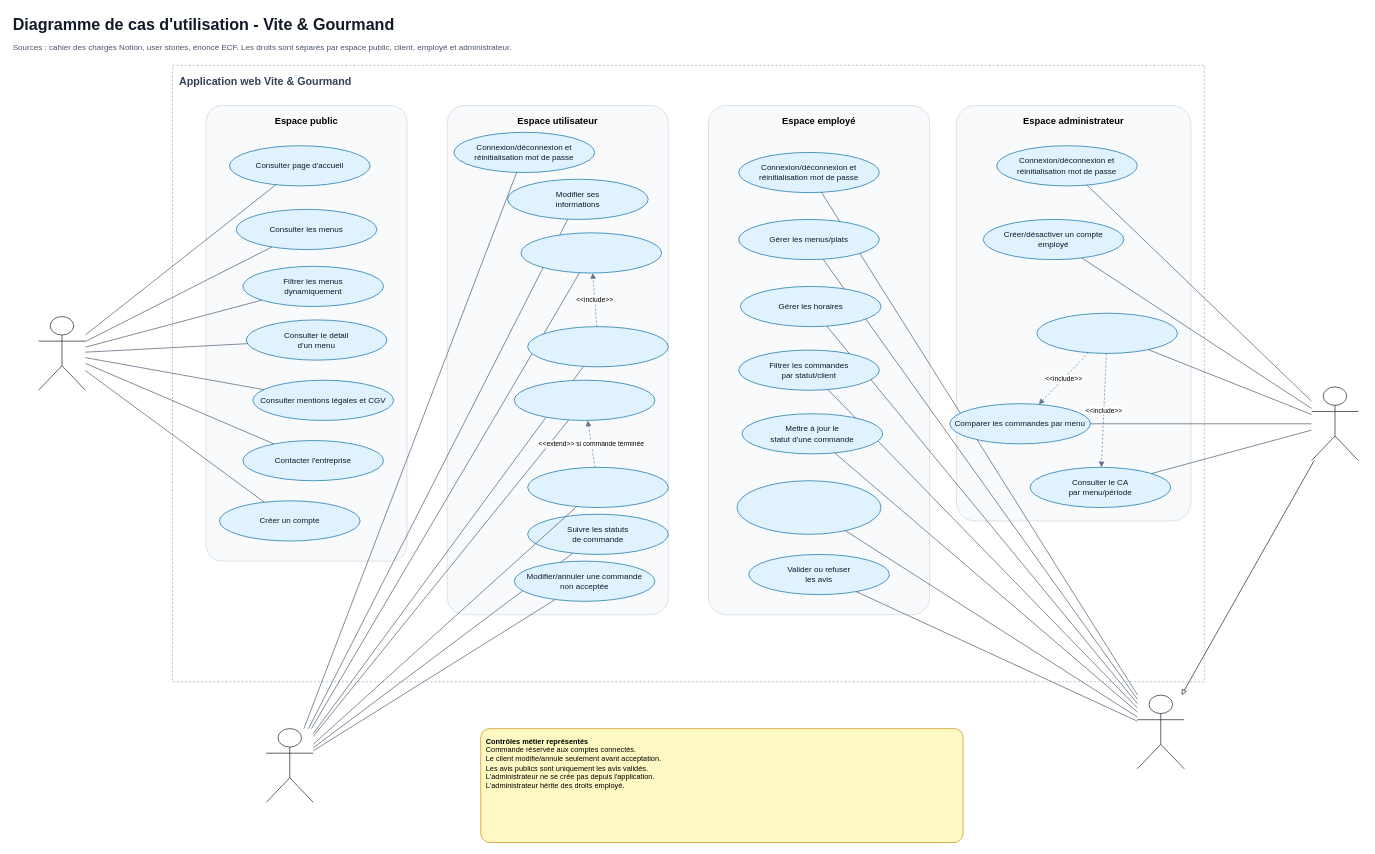
Some shapes in this 1375 by 854 pixel diagram are drawn without their labels. Here are the shapes that lost their labels. From the top down, the centre of each, then its label:
the point at 591,252: Voir le prix détaillé avant validation
the point at 61,353: Visiteur non authentifié
the point at 597,346: Commander un menu
the point at 1107,333: Consulter statistiques
the point at 584,400: Consulter ses commandes
the point at 1334,423: Administrateur
the point at 597,487: Laisser un avis après commande terminée
the point at 808,507: Modifier/annuler une commande après contact client
the point at 1160,731: Employé
the point at 289,765: Utilisateur connecté
